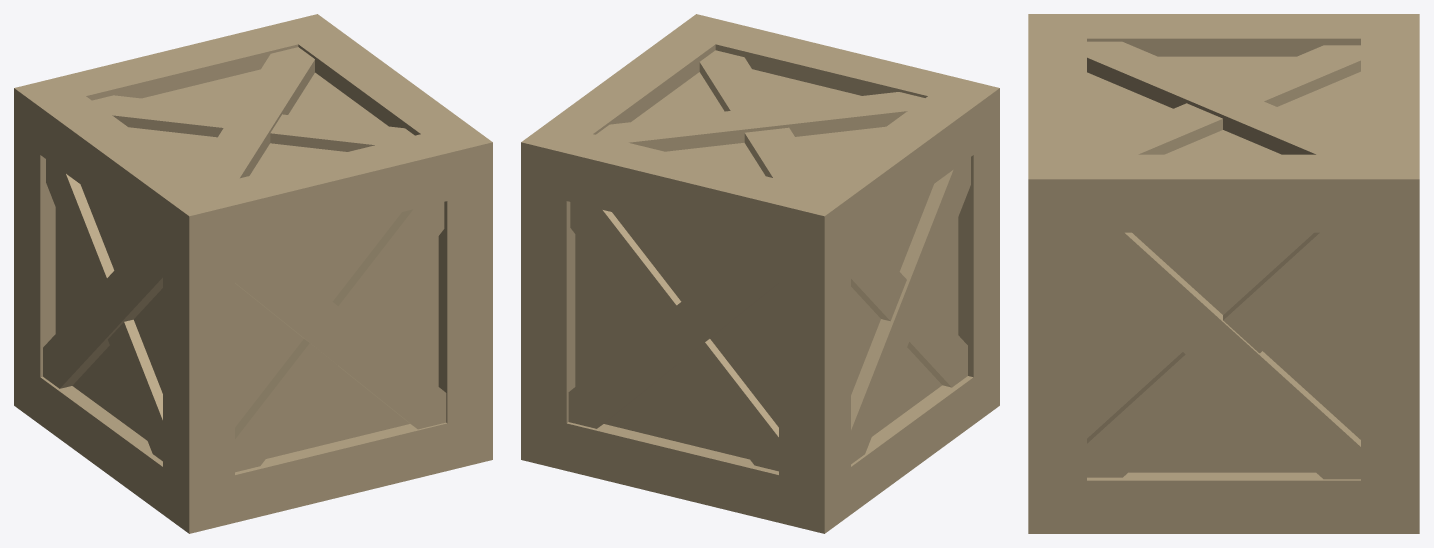
The model's file is Caisse_2.fbx.
The picture shows the model from 3 angles, left to right: view 1: azimuth 30°, elevation 25°; view 2: azimuth 150°, elevation 25°; view 3: azimuth 270°, elevation 25°; orthographic projection. The views are drawn at different scales.
Parts seen in each view (by area): view 1: Caisse; view 2: Caisse; view 3: Caisse.
Part boxes in pixels (box(x1,y1,x2,y2)): Caisse: box(14, 14, 492, 533); Caisse: box(521, 14, 999, 533); Caisse: box(1028, 14, 1419, 533).
Bounding box in the file's own units: 91.99 × 91.99 × 91.99.
